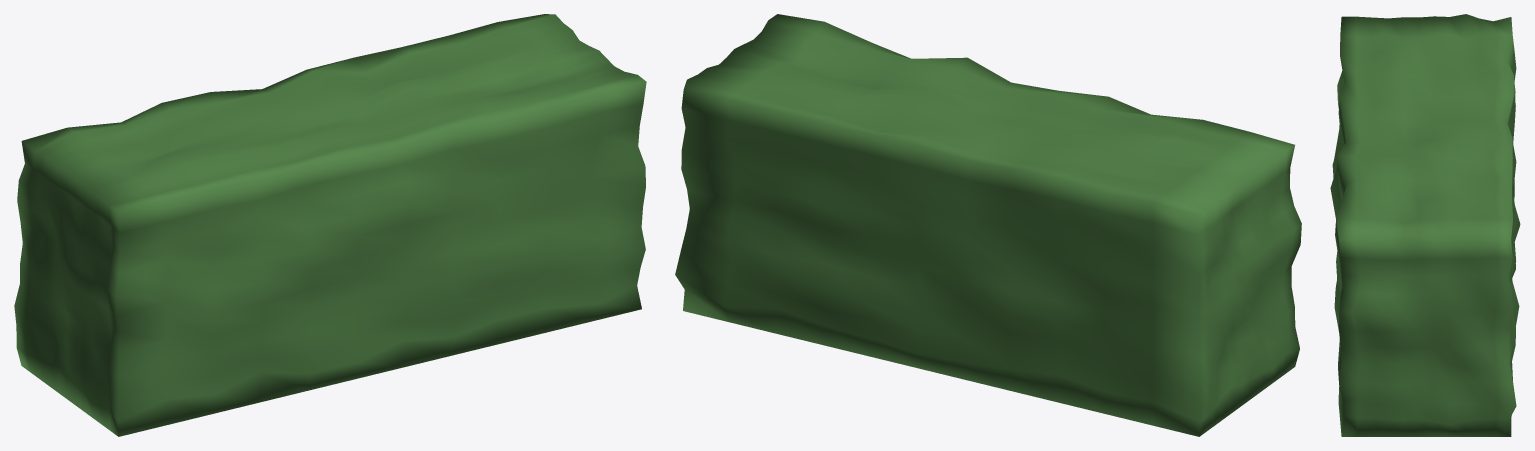
The model's file is G_Hedge.fbx.
The picture shows the model from 3 angles, left to right: view 1: azimuth 30°, elevation 25°; view 2: azimuth 150°, elevation 25°; view 3: azimuth 270°, elevation 25°; orthographic projection. The views are drawn at different scales.
Parts seen in each view (by area): view 1: G_Hedge; view 2: G_Hedge; view 3: G_Hedge.
Part boxes in pixels (box(x1,y1,x2,y2)): G_Hedge: box(14, 14, 646, 436); G_Hedge: box(675, 14, 1301, 436); G_Hedge: box(1330, 14, 1520, 436).
Bounding box in the file's own units: 2.88 × 1.19 × 1.01.
